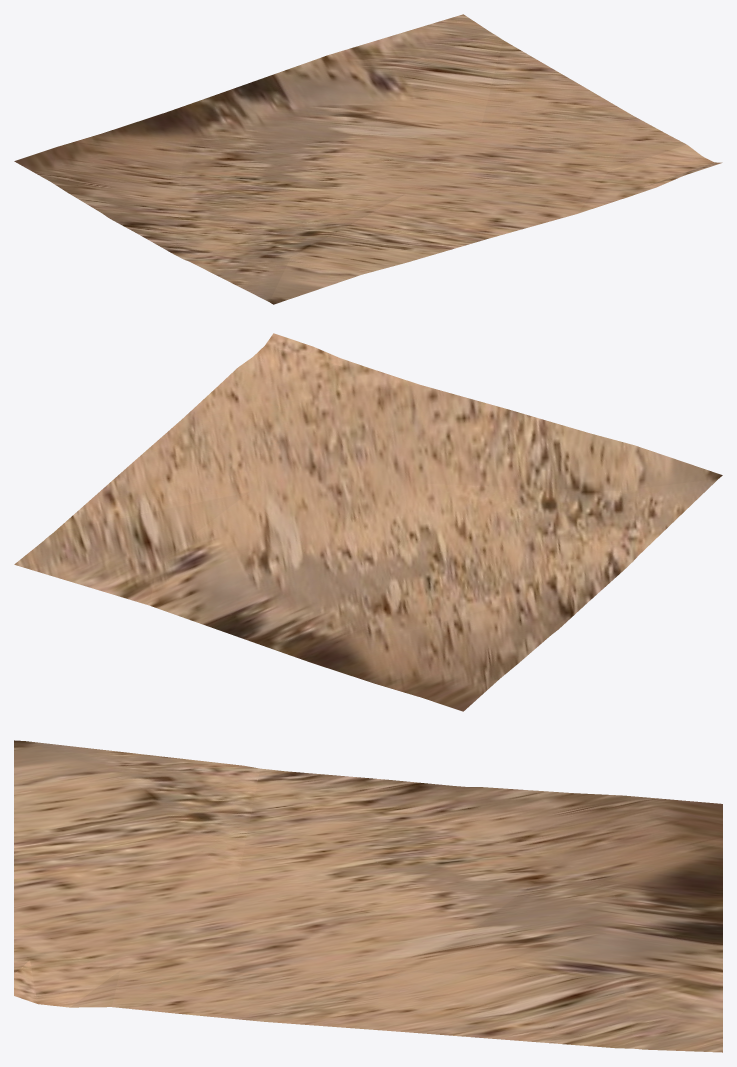
3 renders of one model, top to bottom at view 1: azimuth 30°, elevation 25°; view 2: azimuth 150°, elevation 25°; view 3: azimuth 270°, elevation 25°, orthographic. The views are drawn at different scales.
Size of the model in its own units: 1.04 by 0.175 by 1.04.
3 materials, 3 textured.
